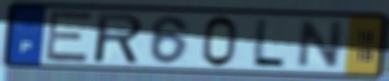0: (200, 15, 241, 69)
6: (148, 14, 193, 66)
E: (42, 9, 96, 65)
L: (248, 17, 289, 70)
N: (293, 18, 348, 70)
R: (94, 11, 147, 66)
